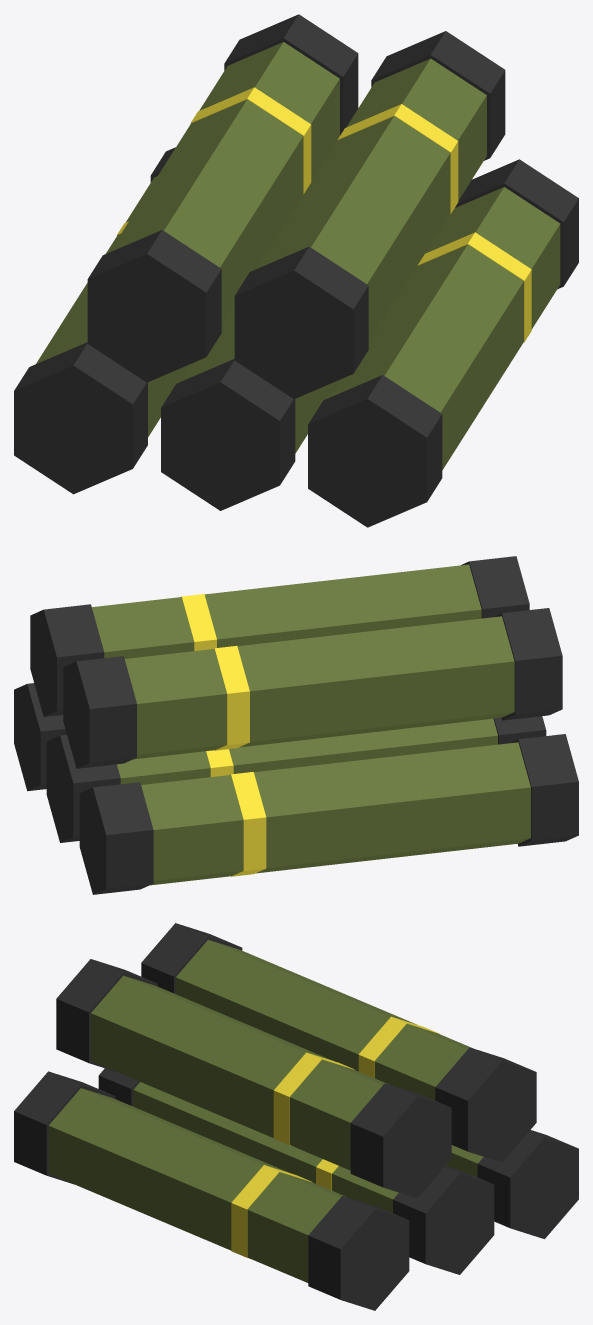
Rendered from ce_ammo2_rpg32_heat_c.obj.
3 views of the same model, one above another, from view 1: azimuth 30°, elevation 25°; view 2: azimuth 150°, elevation 25°; view 3: azimuth 270°, elevation 25° (orthographic). The views are drawn at different scales.
Parts seen in each view (by area): view 1: ce_ammo2_rpg32_heat_c_21, ce_ammo2_rpg32_heat_c_16, ce_ammo2_rpg32_heat_c_11, ce_ammo2_rpg32_heat_c_10, ce_ammo2_rpg32_heat_c_20, ce_ammo2_rpg32_heat_c_15, ce_ammo2_rpg32_heat_c_5, ce_ammo2_rpg32_heat_c_0, ce_ammo2_rpg32_heat_c_23, ce_ammo2_rpg32_heat_c_18, ce_ammo2_rpg32_heat_c_13, ce_ammo2_rpg32_heat_c_24 (+7 smaller); view 2: ce_ammo2_rpg32_heat_c_16, ce_ammo2_rpg32_heat_c_1, ce_ammo2_rpg32_heat_c_21, ce_ammo2_rpg32_heat_c_3, ce_ammo2_rpg32_heat_c_18, ce_ammo2_rpg32_heat_c_4, ce_ammo2_rpg32_heat_c_19, ce_ammo2_rpg32_heat_c_6, ce_ammo2_rpg32_heat_c_15, ce_ammo2_rpg32_heat_c_0, ce_ammo2_rpg32_heat_c_24, ce_ammo2_rpg32_heat_c_23 (+9 smaller); view 3: ce_ammo2_rpg32_heat_c_11, ce_ammo2_rpg32_heat_c_21, ce_ammo2_rpg32_heat_c_16, ce_ammo2_rpg32_heat_c_24, ce_ammo2_rpg32_heat_c_14, ce_ammo2_rpg32_heat_c_19, ce_ammo2_rpg32_heat_c_9, ce_ammo2_rpg32_heat_c_4, ce_ammo2_rpg32_heat_c_13, ce_ammo2_rpg32_heat_c_23, ce_ammo2_rpg32_heat_c_6, ce_ammo2_rpg32_heat_c_18 (+9 smaller).
Boxes of the visible parts, x1=… form: ce_ammo2_rpg32_heat_c_21: x1=256, y1=116, x2=450, y2=341; ce_ammo2_rpg32_heat_c_16: x1=110, y1=99, x2=303, y2=325; ce_ammo2_rpg32_heat_c_11: x1=330, y1=244, x2=523, y2=469; ce_ammo2_rpg32_heat_c_10: x1=308, y1=375, x2=442, y2=527; ce_ammo2_rpg32_heat_c_20: x1=234, y1=246, x2=368, y2=399; ce_ammo2_rpg32_heat_c_15: x1=87, y1=230, x2=221, y2=382; ce_ammo2_rpg32_heat_c_5: x1=161, y1=359, x2=295, y2=510; ce_ammo2_rpg32_heat_c_0: x1=14, y1=342, x2=147, y2=494; ce_ammo2_rpg32_heat_c_23: x1=346, y1=58, x2=486, y2=200; ce_ammo2_rpg32_heat_c_18: x1=199, y1=42, x2=339, y2=181; ce_ammo2_rpg32_heat_c_13: x1=425, y1=187, x2=560, y2=329; ce_ammo2_rpg32_heat_c_24: x1=371, y1=31, x2=505, y2=160; ce_ammo2_rpg32_heat_c_16: x1=237, y1=616, x2=514, y2=747; ce_ammo2_rpg32_heat_c_1: x1=254, y1=742, x2=530, y2=873; ce_ammo2_rpg32_heat_c_21: x1=204, y1=564, x2=481, y2=647; ce_ammo2_rpg32_heat_c_3: x1=141, y1=775, x2=243, y2=885; ce_ammo2_rpg32_heat_c_18: x1=124, y1=649, x2=226, y2=759; ce_ammo2_rpg32_heat_c_4: x1=79, y1=782, x2=153, y2=894; ce_ammo2_rpg32_heat_c_19: x1=63, y1=656, x2=136, y2=768; ce_ammo2_rpg32_heat_c_6: x1=229, y1=718, x2=497, y2=773; ce_ammo2_rpg32_heat_c_15: x1=493, y1=608, x2=562, y2=720; ce_ammo2_rpg32_heat_c_0: x1=510, y1=734, x2=578, y2=846; ce_ammo2_rpg32_heat_c_24: x1=30, y1=604, x2=104, y2=716; ce_ammo2_rpg32_heat_c_23: x1=92, y1=597, x2=194, y2=658; ce_ammo2_rpg32_heat_c_11: x1=48, y1=1088, x2=290, y2=1250; ce_ammo2_rpg32_heat_c_21: x1=91, y1=975, x2=331, y2=1137; ce_ammo2_rpg32_heat_c_16: x1=175, y1=939, x2=416, y2=1071; ce_ammo2_rpg32_heat_c_24: x1=350, y1=1083, x2=451, y2=1198; ce_ammo2_rpg32_heat_c_14: x1=308, y1=1195, x2=409, y2=1310; ce_ammo2_rpg32_heat_c_19: x1=435, y1=1047, x2=536, y2=1162; ce_ammo2_rpg32_heat_c_9: x1=393, y1=1166, x2=494, y2=1274; ce_ammo2_rpg32_heat_c_4: x1=477, y1=1130, x2=578, y2=1239; ce_ammo2_rpg32_heat_c_13: x1=247, y1=1172, x2=345, y2=1282; ce_ammo2_rpg32_heat_c_23: x1=289, y1=1059, x2=387, y2=1170; ce_ammo2_rpg32_heat_c_6: x1=133, y1=1082, x2=322, y2=1183; ce_ammo2_rpg32_heat_c_18: x1=374, y1=1024, x2=471, y2=1100.
Size of the model in its own units: 0.8556 by 0.3276 by 0.8556.
